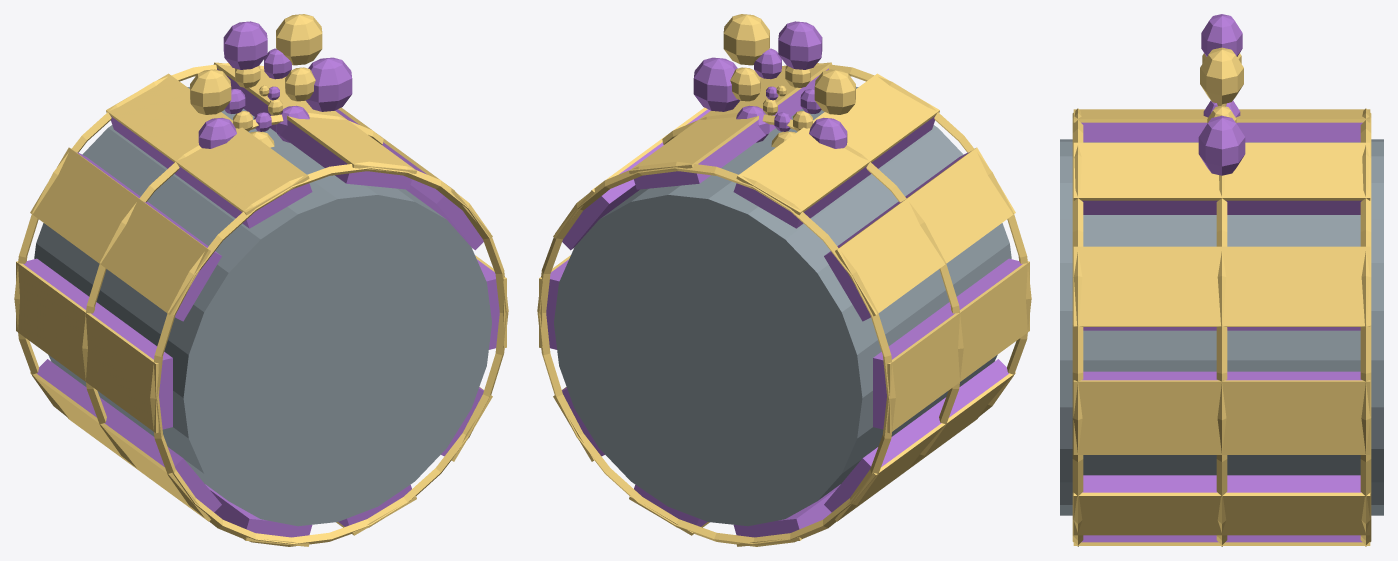
Rendered from sub_shell_plating.glb.
3 renders of one model, left to right at view 1: azimuth 30°, elevation 25°; view 2: azimuth 150°, elevation 25°; view 3: azimuth 270°, elevation 25°, orthographic. The views are drawn at different scales.
Parts seen in each view (by area): view 1: sub_shell_plating_hull, sub_shell_plating_gold, sub_shell_plating_shell; view 2: sub_shell_plating_hull, sub_shell_plating_gold, sub_shell_plating_shell; view 3: sub_shell_plating_gold, sub_shell_plating_hull, sub_shell_plating_shell.
Part boxes in pixels (box(x1,y1,x2,y2)): sub_shell_plating_hull: box(34, 87, 491, 526); sub_shell_plating_gold: box(14, 14, 508, 546); sub_shell_plating_shell: box(23, 21, 499, 537); sub_shell_plating_hull: box(554, 87, 1011, 526); sub_shell_plating_gold: box(537, 14, 1031, 546); sub_shell_plating_shell: box(546, 21, 1022, 537); sub_shell_plating_gold: box(1072, 47, 1371, 546); sub_shell_plating_hull: box(1060, 139, 1383, 515); sub_shell_plating_shell: box(1081, 14, 1362, 542).
Bounding box in the file's own units: 4.88 × 6.16 × 3.6.
